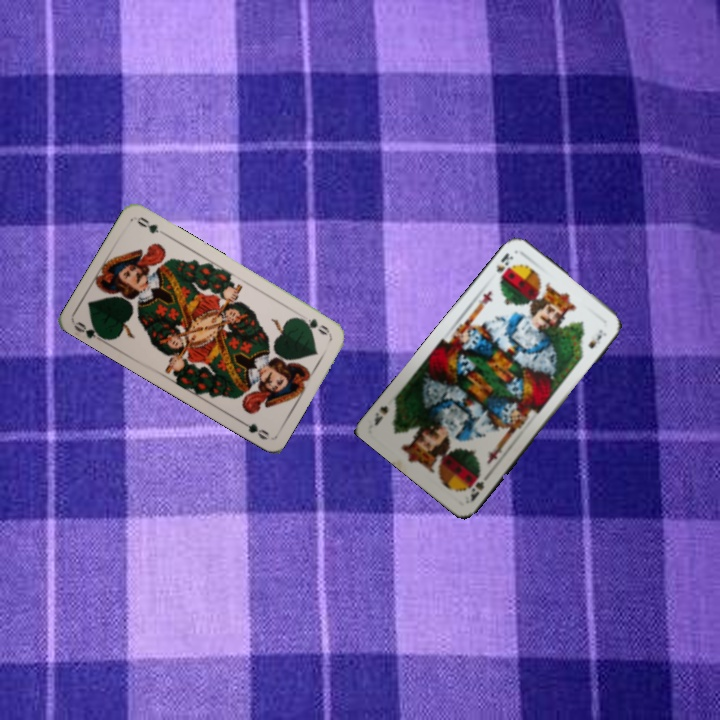GO: (70, 317, 110, 346), (295, 314, 333, 338)
SK: (465, 470, 493, 504), (492, 249, 516, 275)
